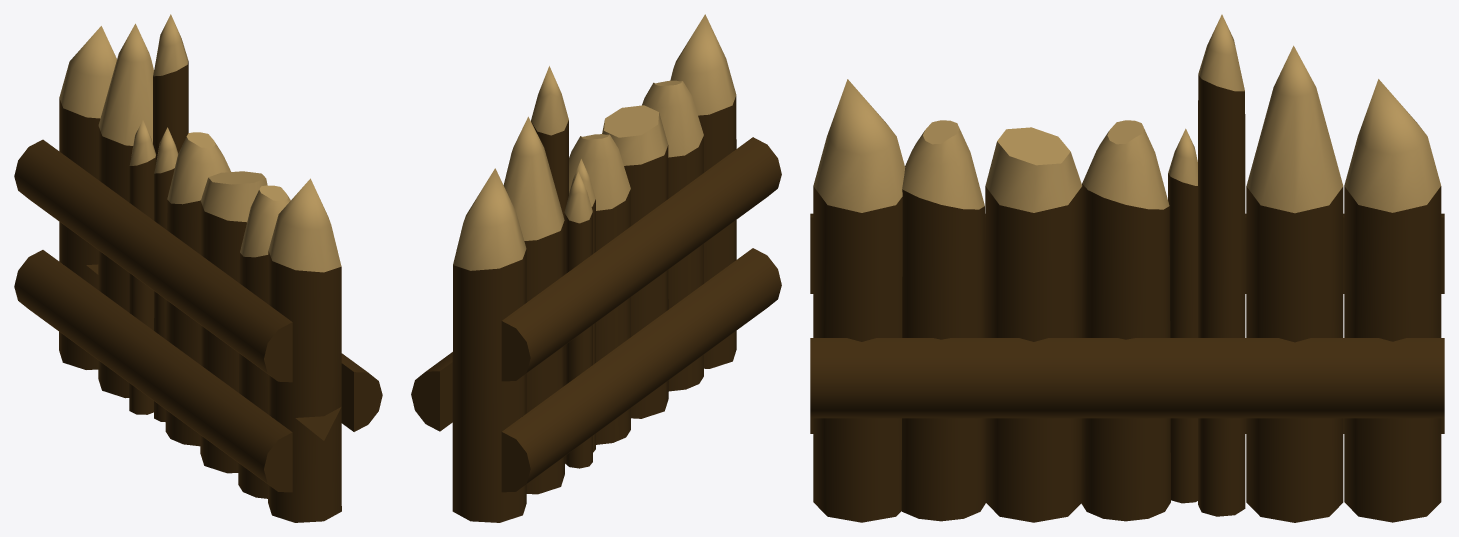
File: SM_GoblinCamp_Fence_Var2.fbx
The picture shows the model from 3 angles, left to right: view 1: azimuth 30°, elevation 25°; view 2: azimuth 150°, elevation 25°; view 3: azimuth 270°, elevation 25°; orthographic projection. The views are drawn at different scales.
Visible parts, largest first — view 1: SM_GoblinCamp_Fence_Var2; view 2: SM_GoblinCamp_Fence_Var2; view 3: SM_GoblinCamp_Fence_Var2.
Boxes of the visible parts, x1,y1,x2,y2 form: SM_GoblinCamp_Fence_Var2: (14,14,382,522); SM_GoblinCamp_Fence_Var2: (411,14,781,522); SM_GoblinCamp_Fence_Var2: (810,14,1444,522).
Bounding box in the file's own units: 54.99 × 171 × 200.
